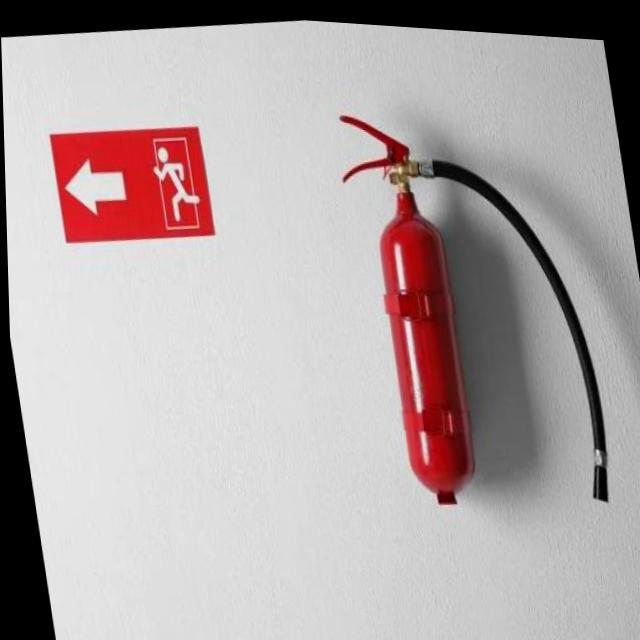FireExtinguisher: (324, 74, 618, 530)
